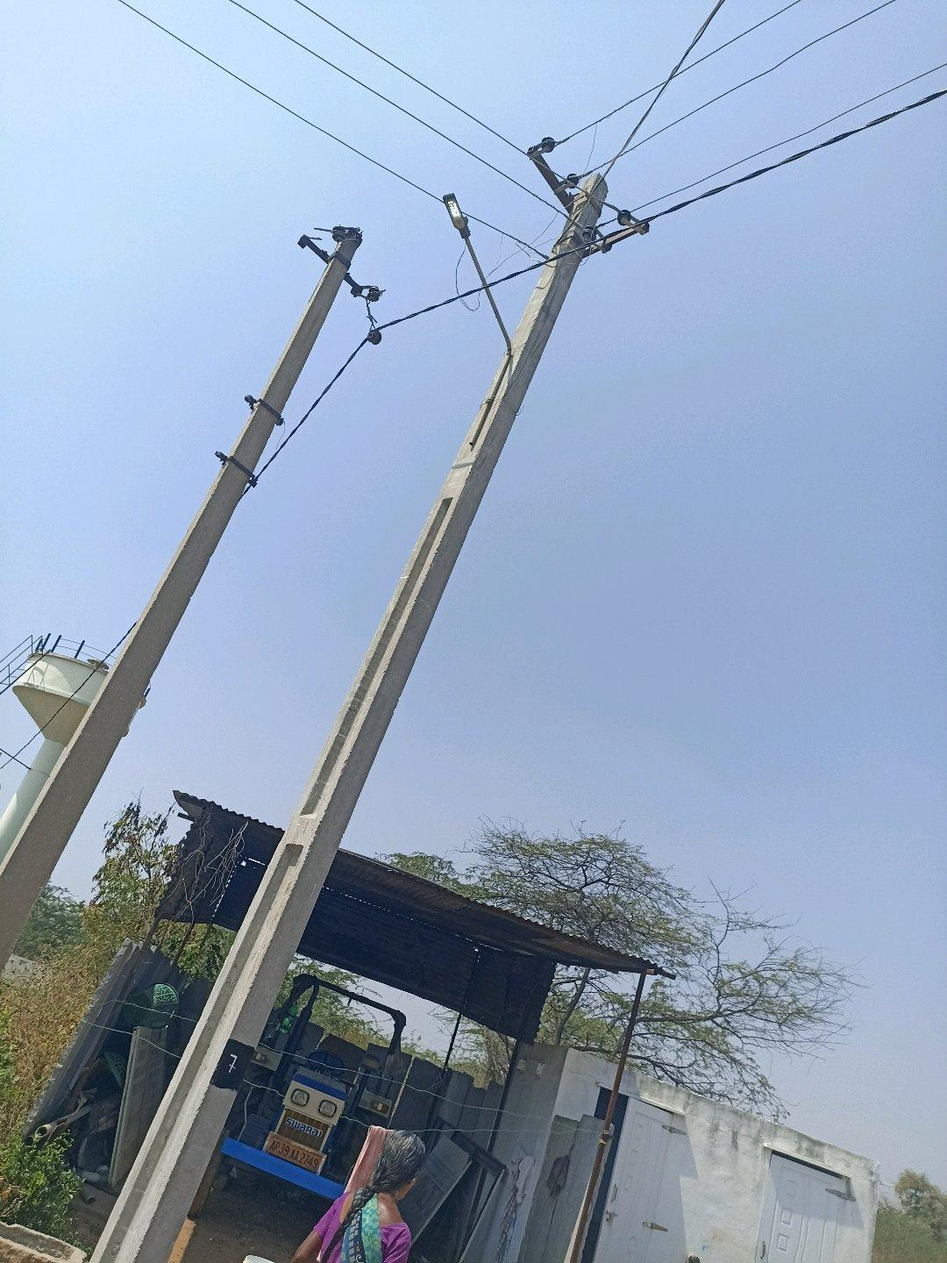{"0" "insulator", "1" "pole", "2" "crossarm", "3" "conductor", "4" "street_: (91, 139, 619, 1262), (0, 227, 381, 970), (608, 205, 649, 236), (636, 120, 640, 132), (614, 156, 618, 162), (642, 118, 646, 122)
